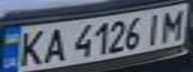1: (90, 19, 112, 56)
2: (109, 17, 130, 54)
4: (69, 20, 97, 58)
6: (124, 13, 148, 51)
A: (36, 25, 69, 63)
I: (142, 10, 169, 44)
K: (12, 27, 48, 68)
M: (157, 6, 190, 42)
